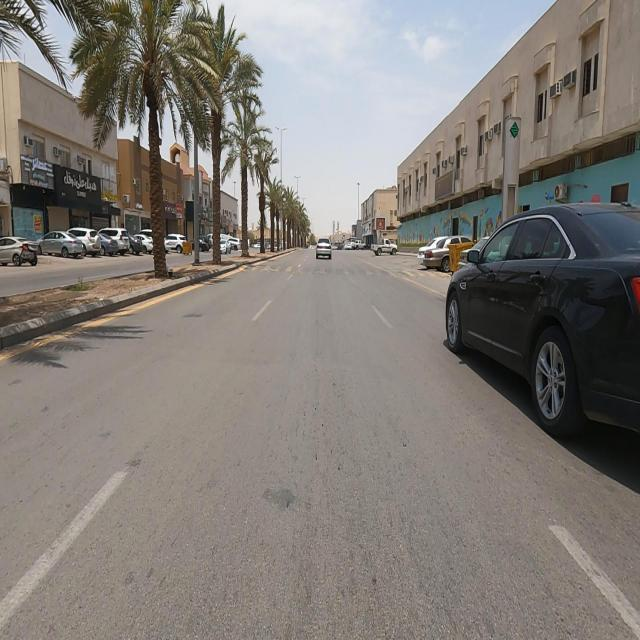debris: (406, 153, 484, 217)
